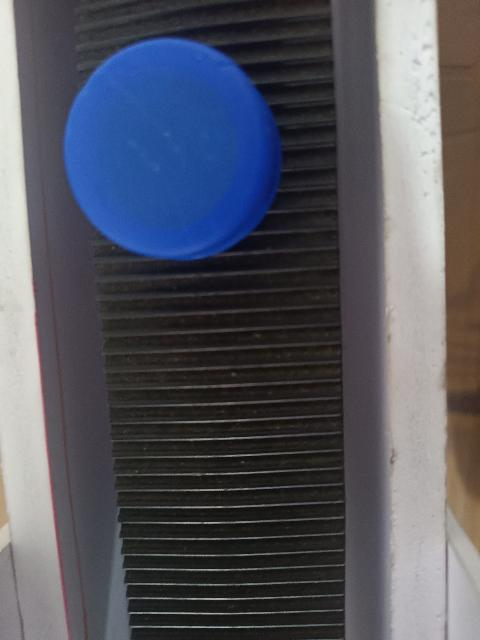bottlecap: (60, 38, 286, 266)
